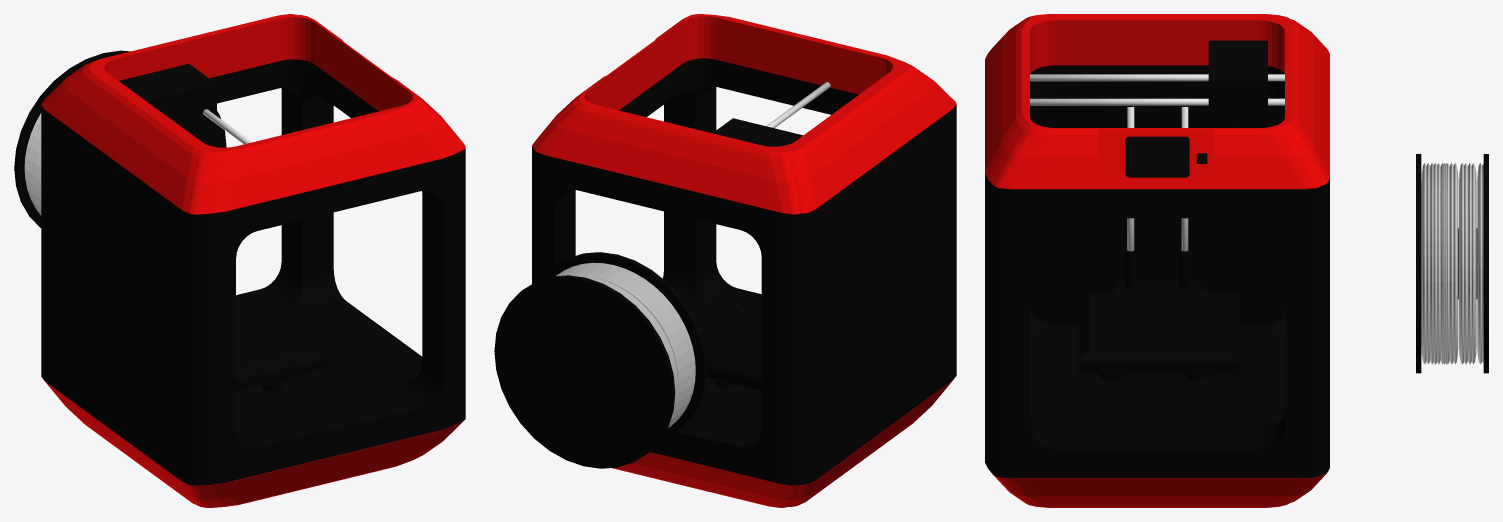
Rendered from 3DPrinter.fbx.
3 views of the same model, side by side, from view 1: azimuth 30°, elevation 25°; view 2: azimuth 150°, elevation 25°; view 3: azimuth 270°, elevation 25° (orthographic). The views are drawn at different scales.
Visible parts, largest first — view 1: Printer, Platta, PrinterHuvud, 3D roll; view 2: Printer, 3D roll, Platta, PrinterHuvud, HuvudStångar; view 3: Printer, Platta, 3D roll, PrinterHuvud, HuvudStångar.
Part boxes in pixels (x1=…): Printer: x1=41, y1=14, x2=465, y2=507; Platta: x1=236, y1=301, x2=327, y2=390; PrinterHuvud: x1=119, y1=64, x2=216, y2=135; 3D roll: x1=14, y1=50, x2=226, y2=227; Printer: x1=532, y1=14, x2=956, y2=507; 3D roll: x1=494, y1=252, x2=706, y2=468; Platta: x1=701, y1=301, x2=761, y2=390; PrinterHuvud: x1=713, y1=118, x2=802, y2=146; HuvudStångar: x1=766, y1=82, x2=830, y2=128; Printer: x1=985, y1=14, x2=1329, y2=507; Platta: x1=1077, y1=248, x2=1238, y2=380; 3D roll: x1=1416, y1=154, x2=1488, y2=373; PrinterHuvud: x1=1208, y1=40, x2=1267, y2=127; HuvudStångar: x1=1030, y1=74, x2=1284, y2=105.
Bounding box in the file's own units: 29.8 × 36.12 × 43.51.
